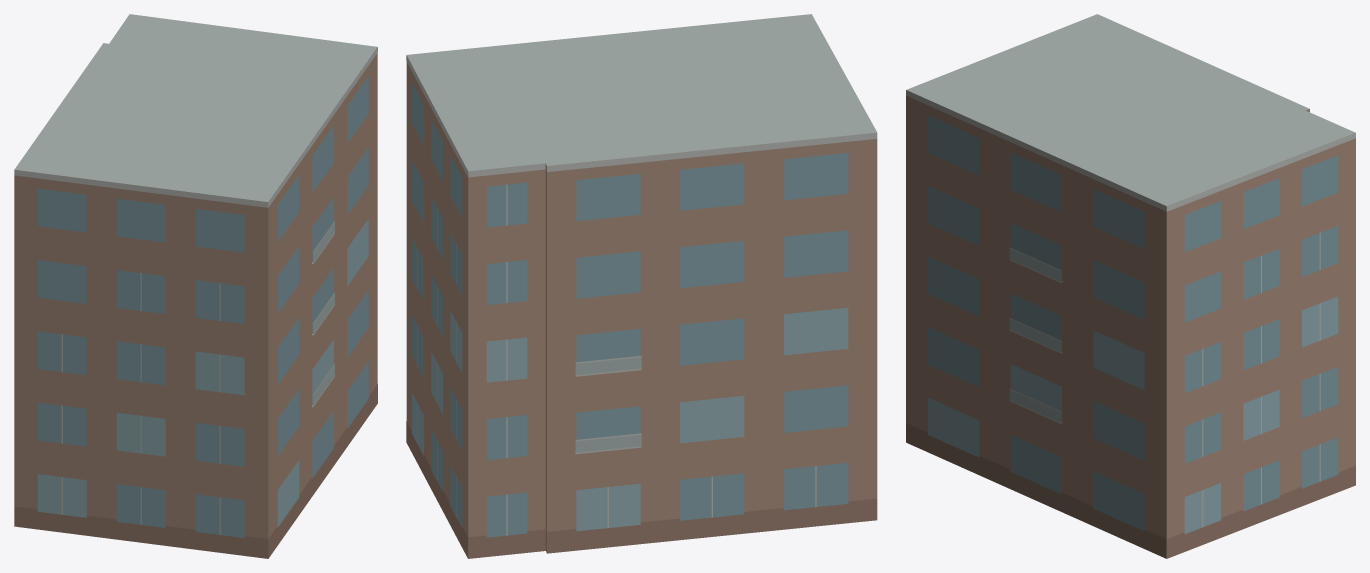
File: survey-upis-32712123.glb
3 renders of one model, left to right at view 1: azimuth 30°, elevation 25°; view 2: azimuth 150°, elevation 25°; view 3: azimuth 270°, elevation 25°, orthographic. The views are drawn at different scales.
Visible parts, largest first — view 1: survey-upis-32712123.tmp; view 2: survey-upis-32712123.tmp; view 3: survey-upis-32712123.tmp.
Boxes of the visible parts, bbox=[...] form: survey-upis-32712123.tmp: bbox=[14, 14, 377, 558]; survey-upis-32712123.tmp: bbox=[406, 14, 877, 558]; survey-upis-32712123.tmp: bbox=[906, 14, 1355, 558].
Size of the model in its own units: 17.95 by 15.35 by 17.75.
